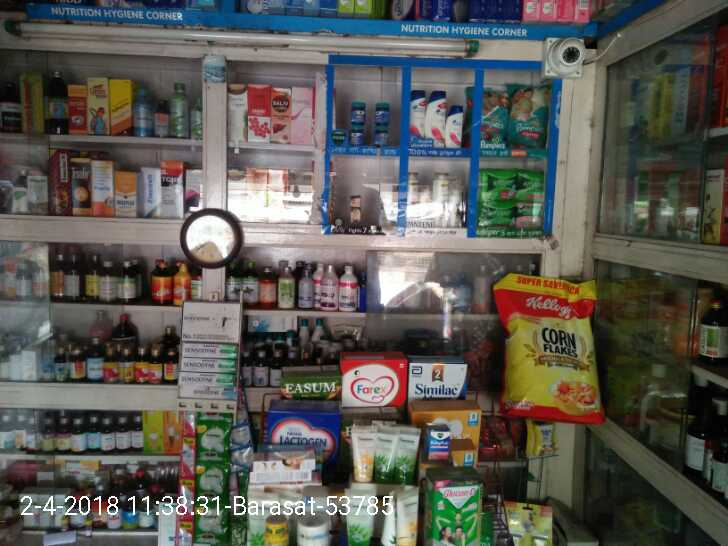vicks: (351, 99, 392, 144)
